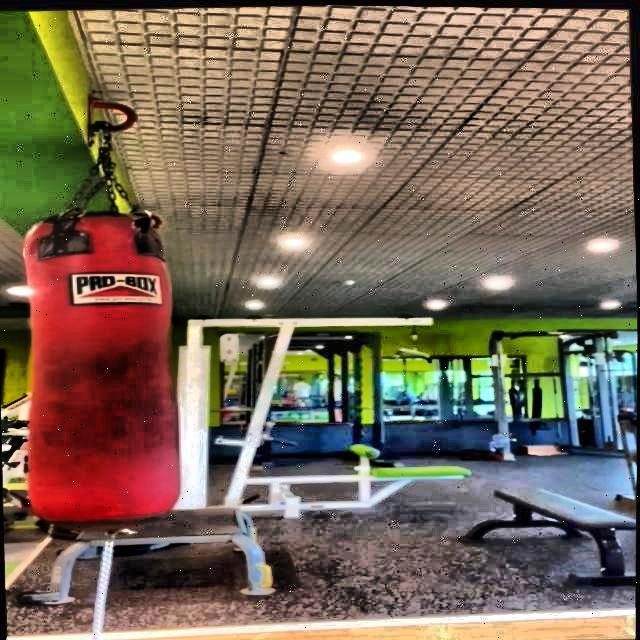boxing-bag: (18, 92, 182, 540)
